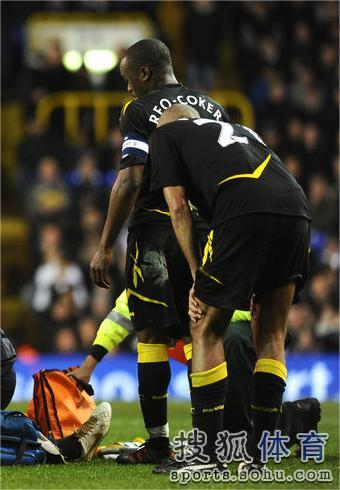bending: (154, 99, 307, 462)
up: (90, 35, 215, 463)
